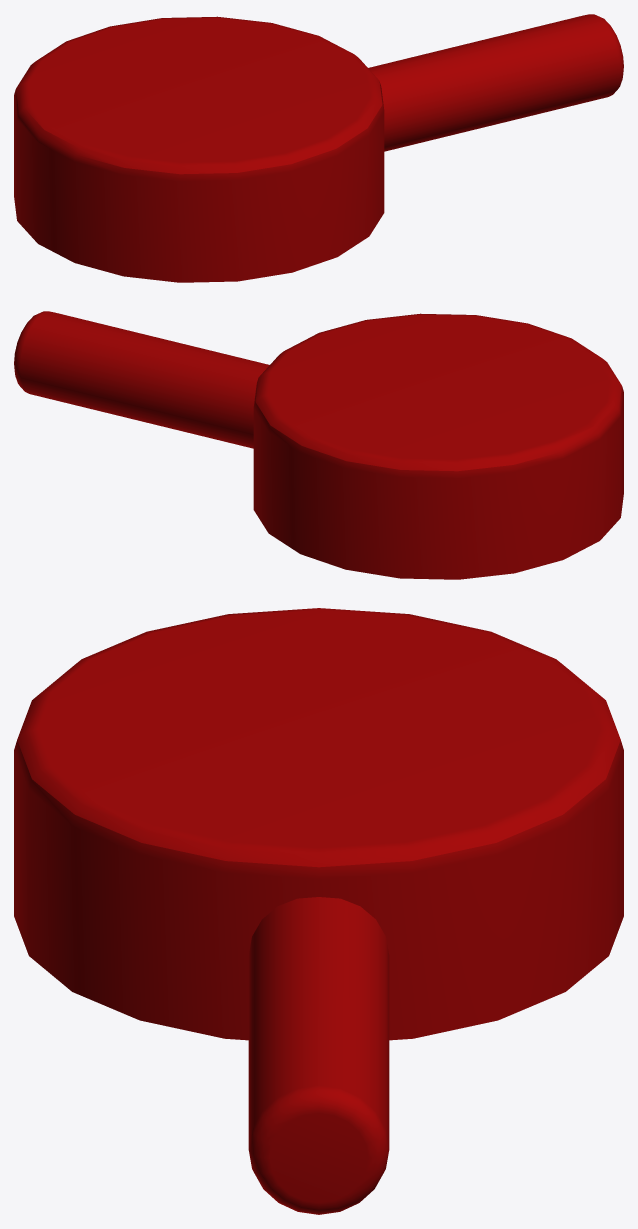
File: Saw_A_Single.fbx
3 renders of one model, top to bottom at view 1: azimuth 30°, elevation 25°; view 2: azimuth 150°, elevation 25°; view 3: azimuth 270°, elevation 25°, orthographic. The views are drawn at different scales.
Visible parts, largest first — view 1: Saw_A_Single; view 2: Saw_A_Single; view 3: Saw_A_Single.
Part boxes in pixels (x1=…): Saw_A_Single: x1=14, y1=14, x2=623, y2=282; Saw_A_Single: x1=14, y1=311, x2=623, y2=579; Saw_A_Single: x1=14, y1=608, x2=623, y2=1214.
Size of the model in its own units: 104 by 19.99 by 59.07.
